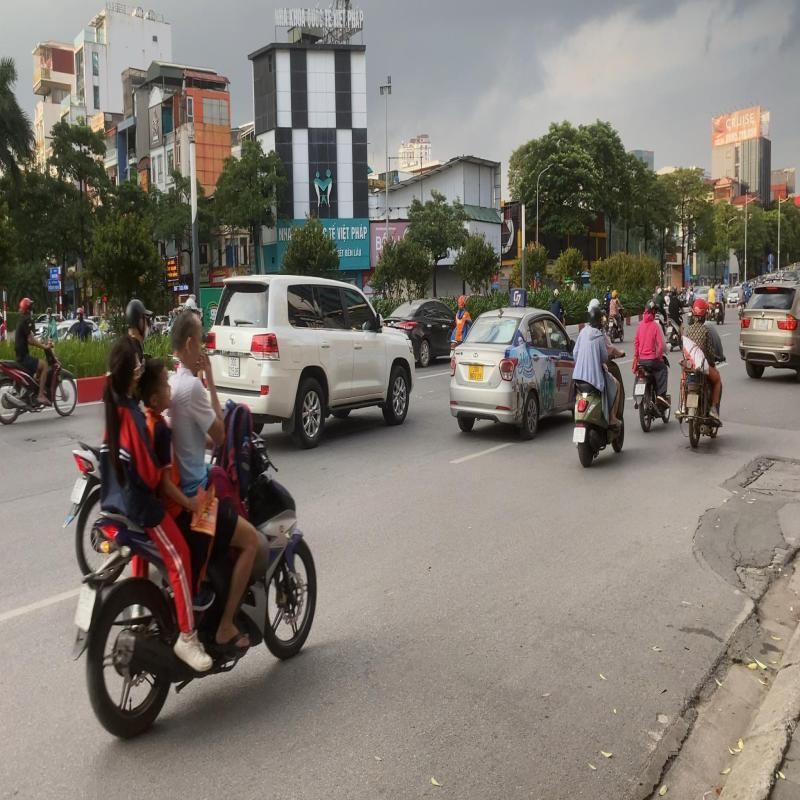helmet: (588, 303, 606, 328), (694, 298, 708, 320)
nohelmet: (103, 334, 142, 404), (168, 306, 209, 370), (136, 356, 179, 416)
